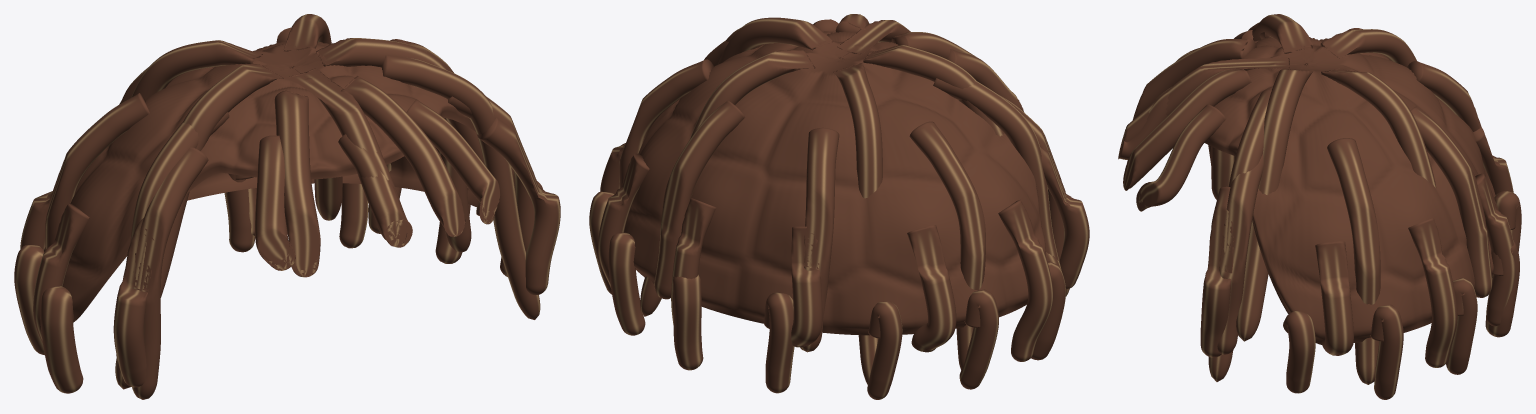
File: Highlights-3f358f84c80e252-hair.glb
The picture shows the model from 3 angles, left to right: view 1: azimuth 30°, elevation 25°; view 2: azimuth 150°, elevation 25°; view 3: azimuth 270°, elevation 25°; orthographic projection. The views are drawn at different scales.
Visible parts, largest first — view 1: 226 hair / Hair252 / sectioned locs.001; view 2: 226 hair / Hair252 / sectioned locs.001; view 3: 226 hair / Hair252 / sectioned locs.001.
Part boxes in pixels (x1=…): 226 hair / Hair252 / sectioned locs.001: x1=14, y1=14, x2=560, y2=399; 226 hair / Hair252 / sectioned locs.001: x1=589, y1=14, x2=1089, y2=399; 226 hair / Hair252 / sectioned locs.001: x1=1118, y1=14, x2=1521, y2=399.
Bounding box in the file's own units: 1.1 × 0.6357 × 0.8755.
1 material, 1 textured.
